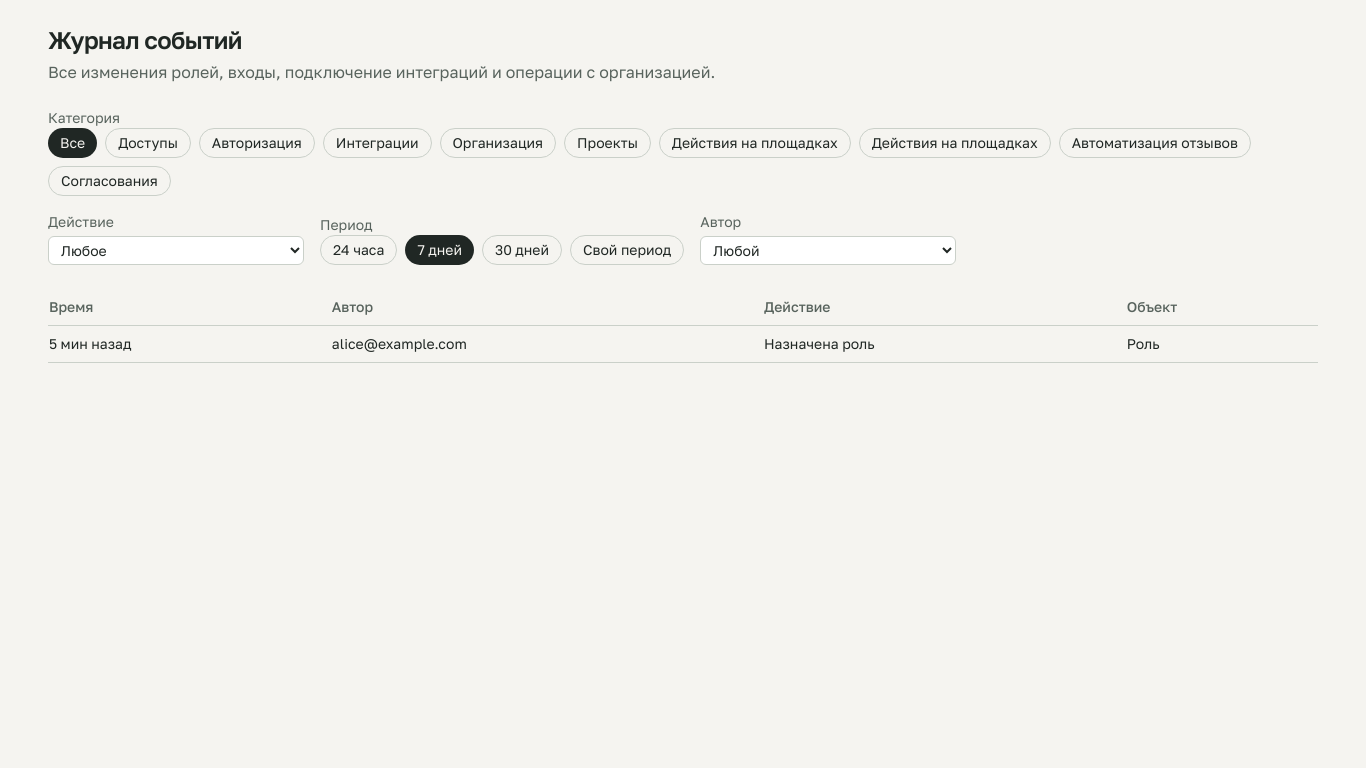
Test: AuditPage › renders rows and opens the side panel on row click
Expected: the row with test id "audit-row-a-1" shows "alice@example.com", [332,335,467,352]
Expected: the row with test id "audit-row-a-1" shows "роль", [1127,335,1160,352]
Click the row with test id "audit-row-a-1".
click(683, 344)  # box [48,326,1318,362]
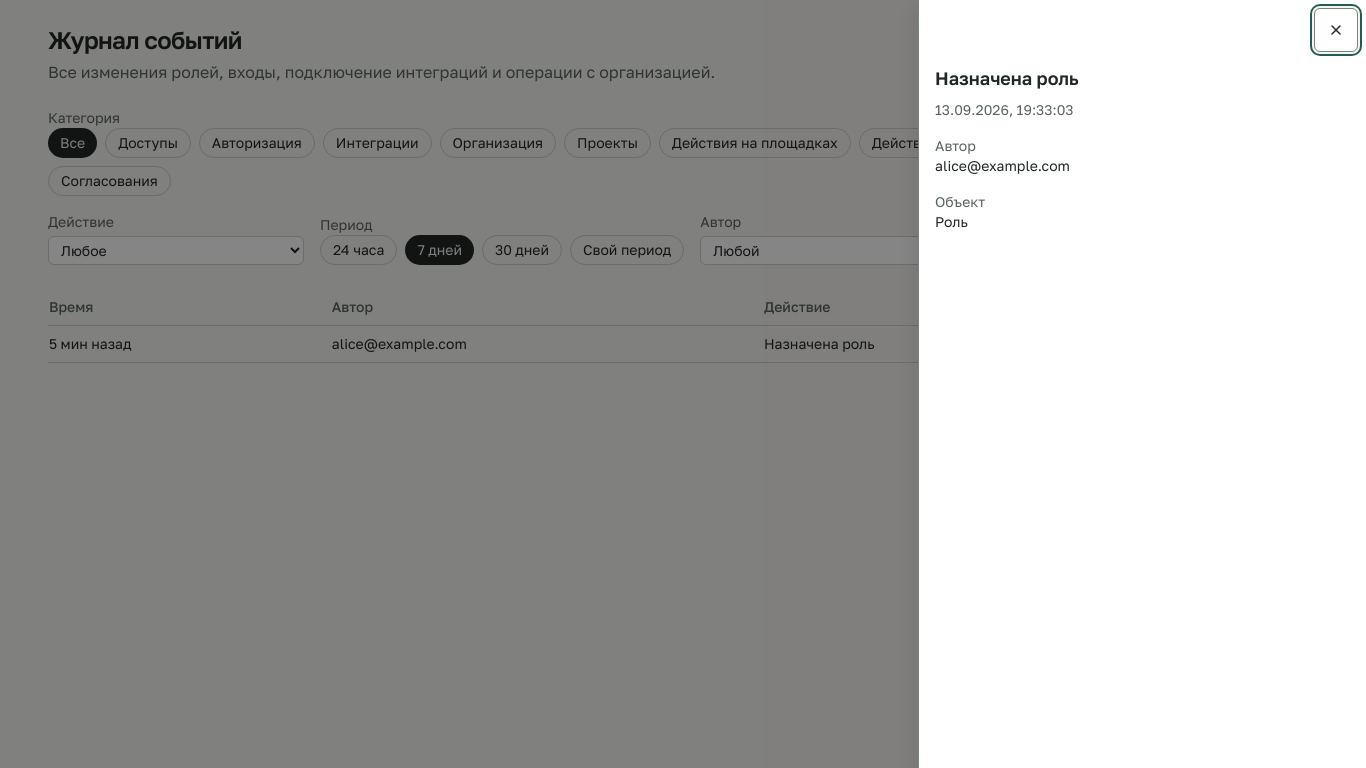
Result: the text with test id "panel-actor" reads "alice@example.com" at [935,157,1070,174]
